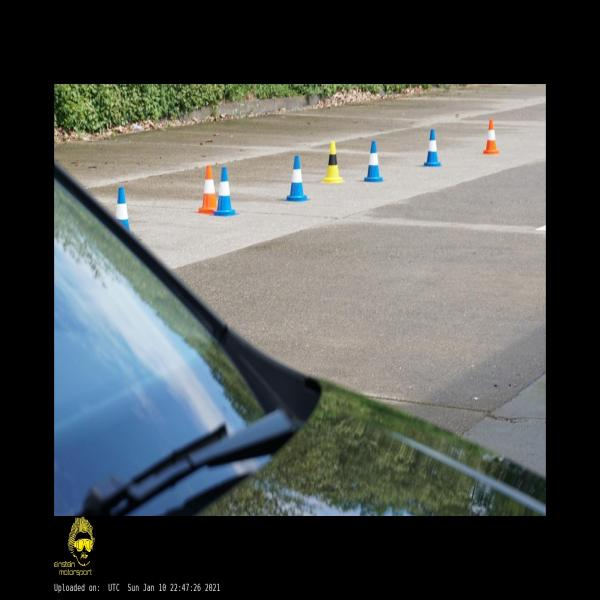blue_cone: (214, 167, 235, 216), (287, 157, 307, 201), (364, 142, 383, 182), (116, 188, 130, 232), (424, 130, 441, 166)
orange_cone: (199, 166, 217, 213), (483, 120, 499, 154)
yellow_cone: (323, 142, 344, 182)
